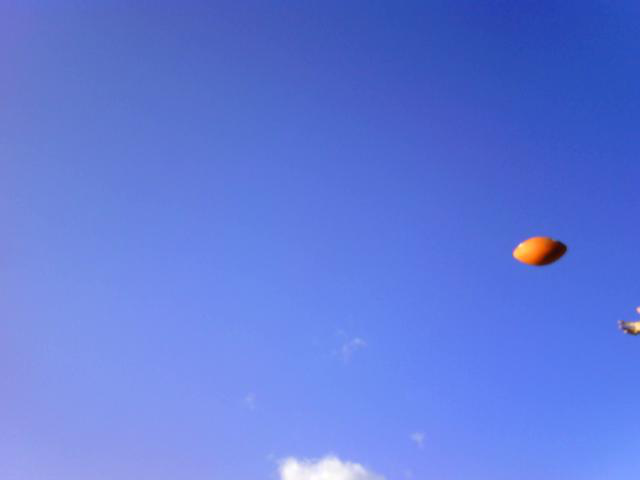football: (506, 228, 573, 274)
